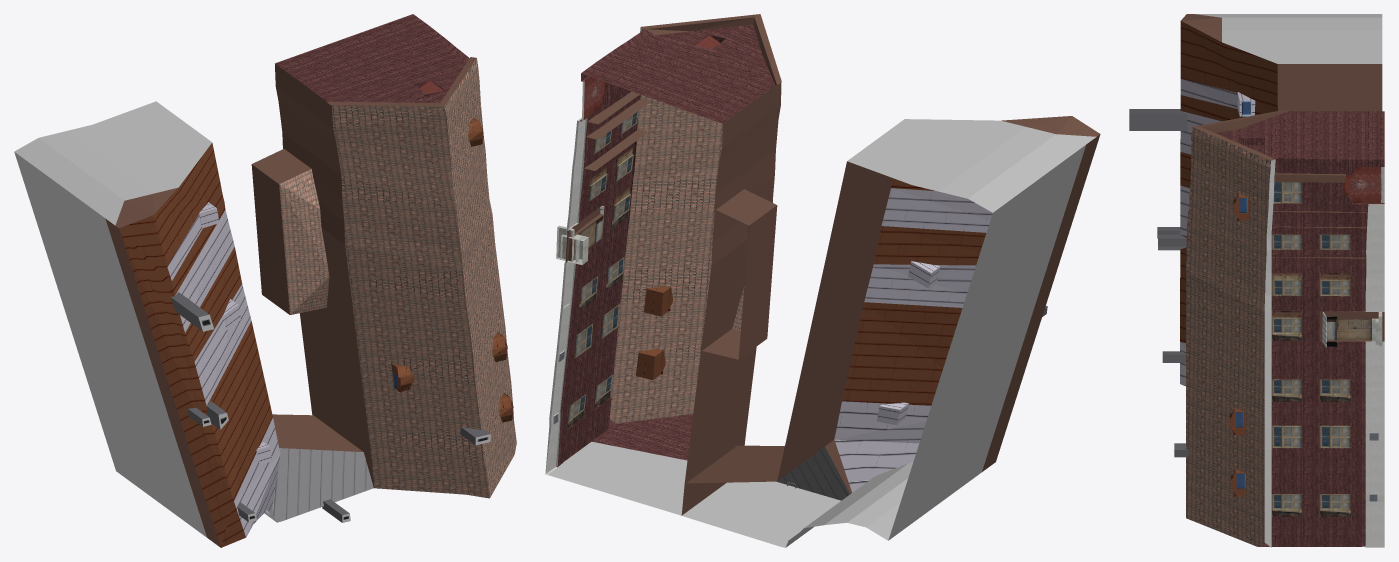
Rendered from Uus_9-origo.obj.
3 views of the same model, side by side, from view 1: azimuth 30°, elevation 25°; view 2: azimuth 150°, elevation 25°; view 3: azimuth 270°, elevation 25° (orthographic). The views are drawn at different scales.
Parts seen in each view (by area): view 1: uus9, xxx; view 2: uus9, xxx; view 3: uus9, xxx.
Part boxes in pixels (x1,y1,x2,y2): uus9: (105, 14, 516, 547); xxx: (14, 101, 276, 537); uus9: (545, 14, 1100, 515); xxx: (548, 119, 1096, 547); uus9: (1129, 14, 1384, 547); xxx: (1195, 14, 1382, 63).
Size of the model in its own units: 29.38 by 26.5 by 15.84.
